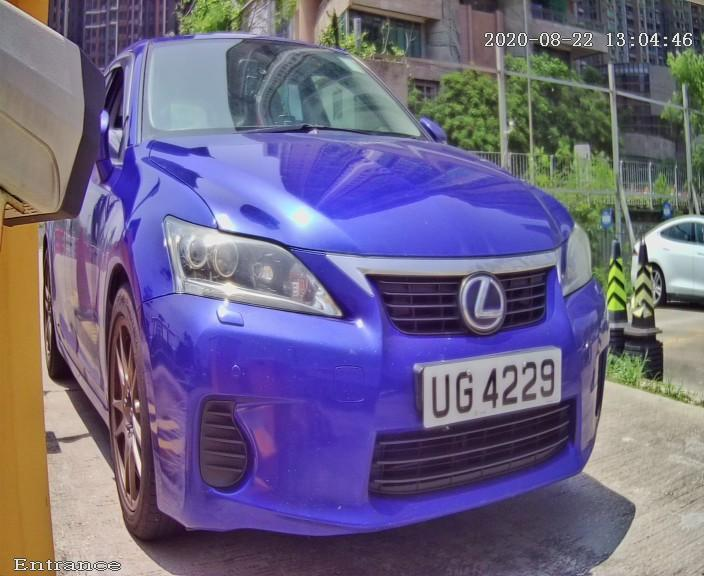License Plate: (366, 315, 612, 446)
